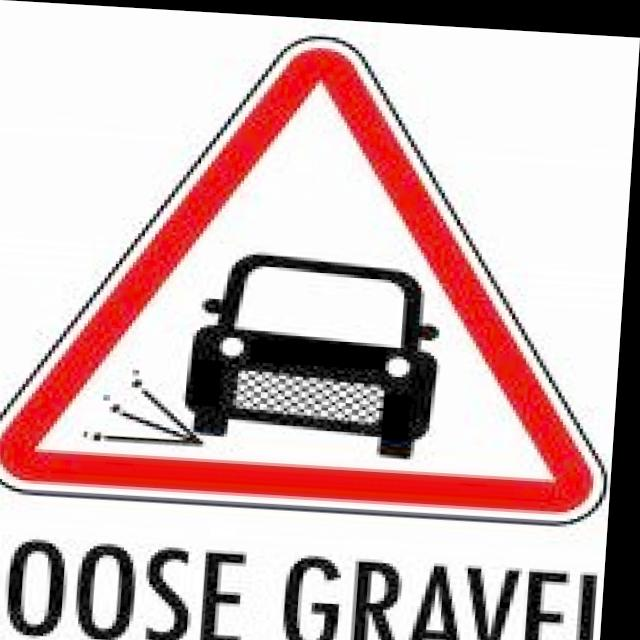LOOSE_GRAVEL: (0, 15, 635, 524)
